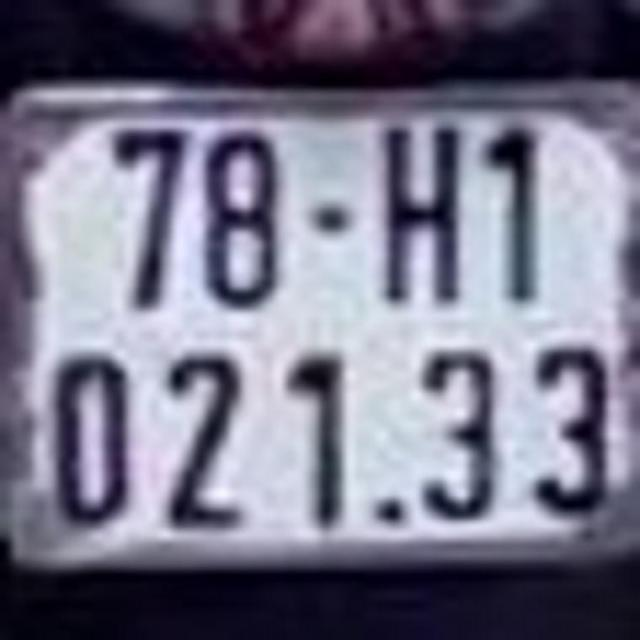0: (40, 344, 134, 526)
1: (276, 333, 360, 532), (481, 112, 560, 303)
2: (157, 337, 250, 530)
3: (526, 329, 616, 530), (420, 337, 504, 521)
7: (104, 108, 188, 310)
8: (196, 116, 285, 308)
H: (374, 116, 470, 308)
